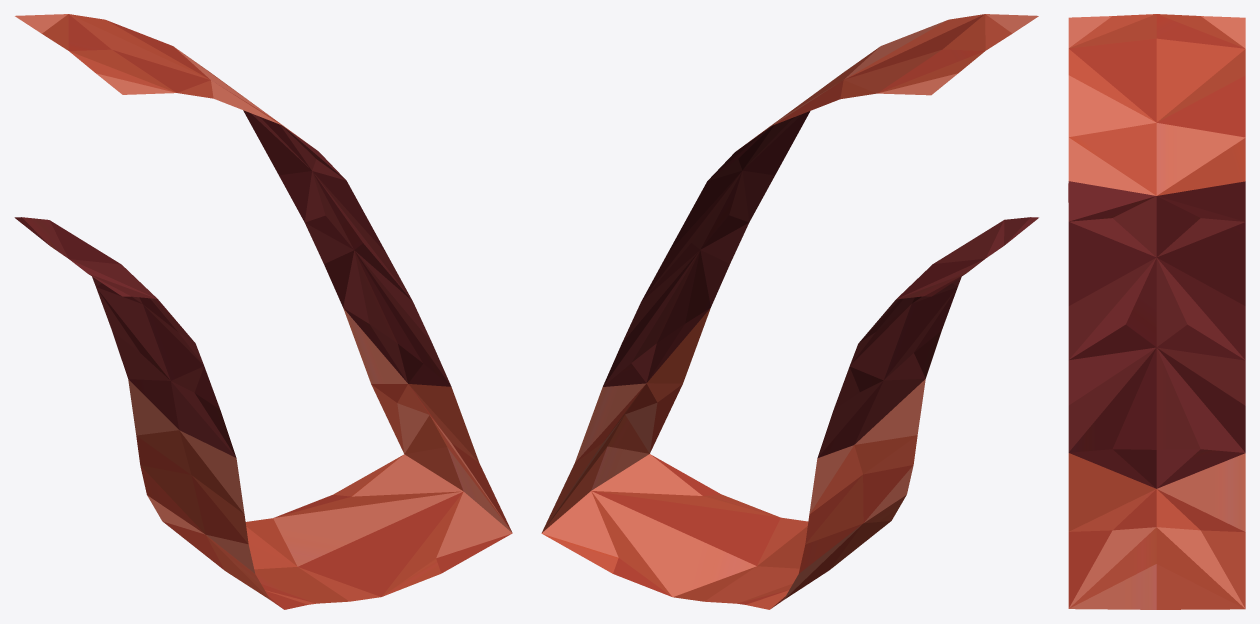
The picture shows the model from 3 angles, left to right: view 1: azimuth 30°, elevation 25°; view 2: azimuth 150°, elevation 25°; view 3: azimuth 270°, elevation 25°; orthographic projection. The views are drawn at different scales.
Visible parts, largest first — view 1: polySurface17; view 2: polySurface17; view 3: polySurface17.
Boxes of the visible parts, x1,y1,x2,y2 form: polySurface17: (14,14,512,609); polySurface17: (541,14,1038,609); polySurface17: (1068,14,1245,609).
Bounding box in the file's own units: 624 × 863 × 297.
